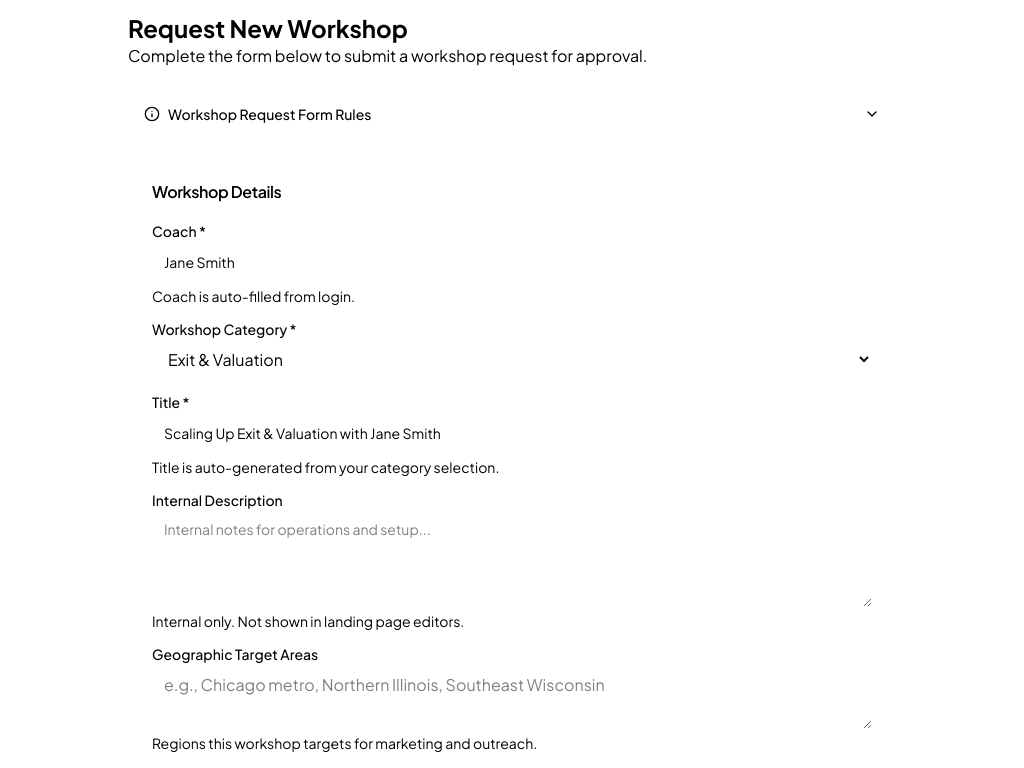
Workshop description field editability (coach portal) › description field is not read-only for coaches when it has content
The width and height of the screenshot is (1024, 768).
Expected: the text box labelled "Internal Description" is shown, [152, 511, 872, 607]
Select "Exit & Valuation" in the dropdown labelled "Workshop Category *": x=512, y=360 [152, 340, 872, 379]
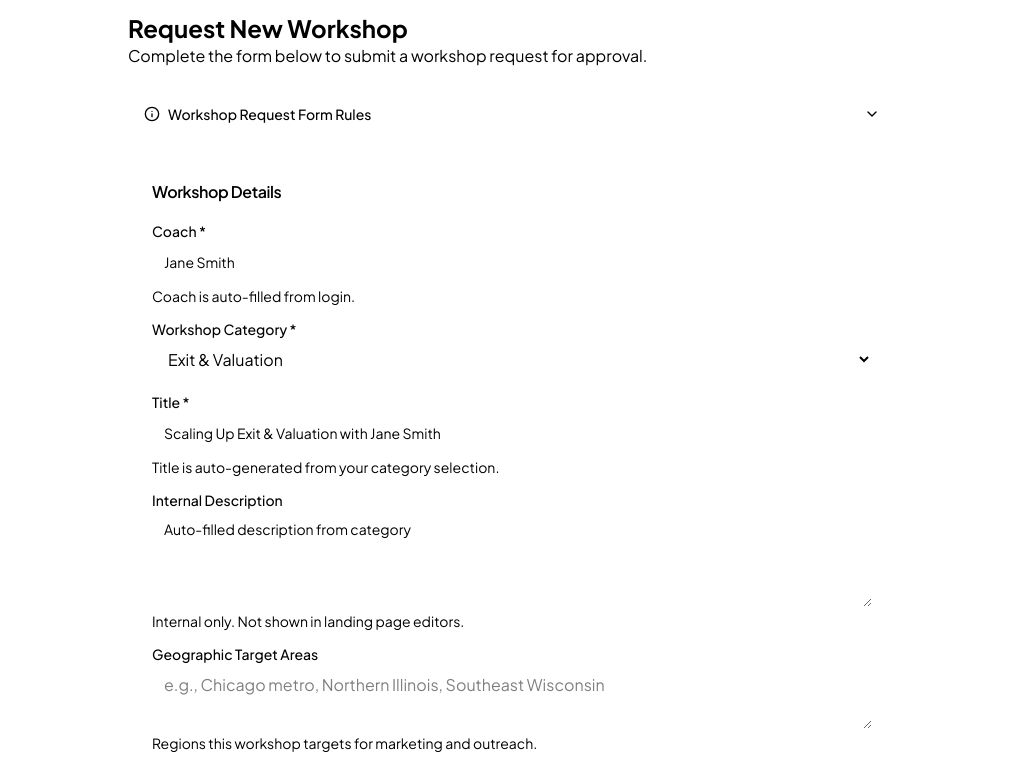
Expected: the text box labelled "Internal Description" holds "Auto-filled description from category", [152, 511, 872, 607]
